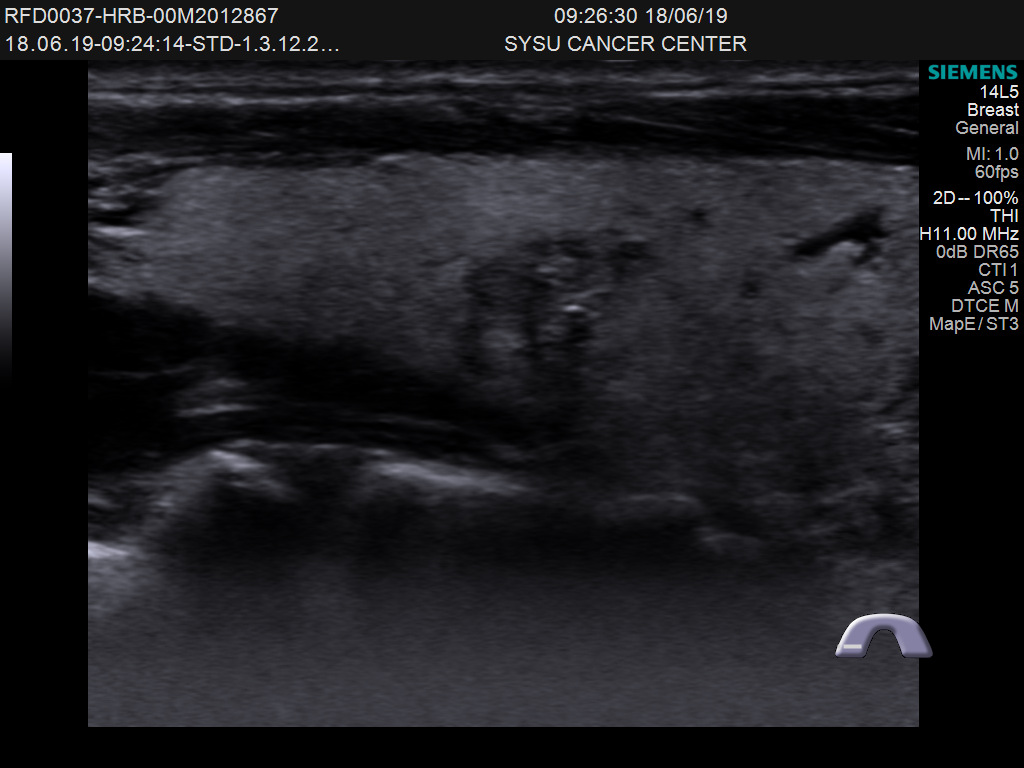Thyroid_tumor: (455, 213, 676, 363)
